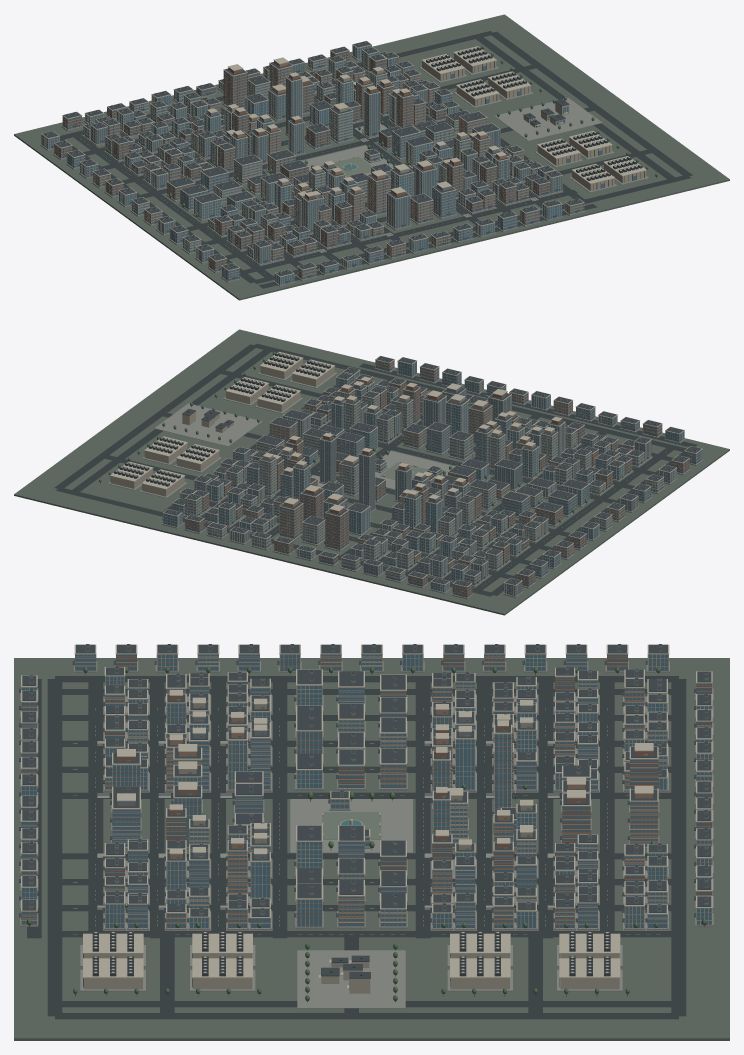
The model's file is living-city.glb.
3 renders of one model, top to bottom at view 1: azimuth 30°, elevation 25°; view 2: azimuth 150°, elevation 25°; view 3: azimuth 270°, elevation 25°, orthographic. The views are drawn at different scales.
Visible parts, largest first — view 1: City block 0 0, City block -1 -1, City block 0 -2, City block -1 -2, location_dc-south, location_dc-north, City block -2 -2, City block 1 -2, City block 0 -1, City block -2 1, City block -2 0, City block 0 1 (+29 smaller); view 2: City block 0 0, City block -1 -1, City block 0 -1, location_dc-north, location_dc-south, City block -2 -1, City block -2 1, City block 1 -1, City block 1 1, City block 0 2, City block 0 -2, City block -2 0 (+29 smaller); view 3: City block 0 0, City block -1 -1, City block 0 -1, City block 1 -1, location_dc-north, location_dc-south, City block 1 1, City block 1 -2, City block 1 0, City block 0 -2, City block 2 -1, City block 0 1 (+30 smaller).
Boxes of the visible parts, bbox=[...] form: City block 0 0: bbox=[14, 14, 729, 300]; City block -1 -1: bbox=[59, 31, 692, 288]; City block 0 -2: bbox=[390, 157, 496, 224]; City block -1 -2: bbox=[327, 169, 411, 241]; location_dc-south: bbox=[535, 130, 657, 192]; location_dc-north: bbox=[419, 46, 541, 107]; City block -2 -2: bbox=[261, 191, 351, 257]; City block 1 -2: bbox=[472, 145, 563, 206]; City block 0 -1: bbox=[179, 112, 538, 252]; City block -2 1: bbox=[137, 108, 226, 164]; City block -2 0: bbox=[177, 129, 262, 193]; City block 0 1: bbox=[268, 74, 373, 127]; City block 0 0: bbox=[14, 329, 729, 615]; City block -1 -1: bbox=[54, 343, 697, 596]; City block 0 -1: bbox=[224, 404, 577, 545]; location_dc-north: bbox=[99, 436, 221, 498]; location_dc-south: bbox=[214, 351, 337, 413]; City block -2 -1: bbox=[486, 435, 579, 508]; City block -2 1: bbox=[406, 494, 496, 562]; City block 1 -1: bbox=[269, 384, 367, 456]; City block 1 1: bbox=[194, 453, 283, 510]; City block 0 2: bbox=[229, 497, 325, 555]; City block 0 -2: bbox=[383, 382, 487, 436]; City block -2 0: bbox=[444, 477, 530, 534]; City block 0 0: bbox=[14, 658, 729, 1040]; City block -1 -1: bbox=[27, 676, 686, 1019]; City block 0 -1: bbox=[97, 740, 576, 909]; City block 1 -1: bbox=[225, 833, 365, 930]; location_dc-north: bbox=[441, 931, 629, 996]; location_dc-south: bbox=[73, 931, 261, 996]; City block 1 1: bbox=[491, 826, 599, 930]; City block 1 -2: bbox=[102, 847, 210, 930]; City block 1 0: bbox=[378, 830, 476, 930]; City block 0 -2: bbox=[102, 761, 210, 878]; City block 2 -1: bbox=[297, 943, 405, 1008]; City block 0 1: bbox=[491, 777, 599, 878].
Bounding box in the file's own units: 88 × 20.46 × 70.
